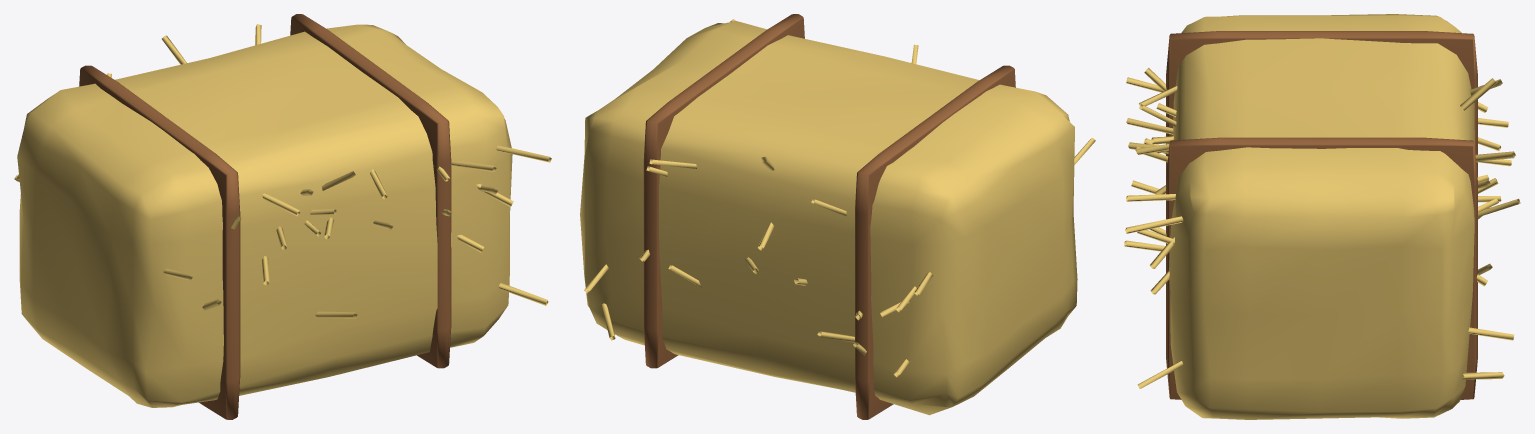
Rendered from HayBale.obj.
The picture shows the model from 3 angles, left to right: view 1: azimuth 30°, elevation 25°; view 2: azimuth 150°, elevation 25°; view 3: azimuth 270°, elevation 25°; orthographic projection. The views are drawn at different scales.
Visible parts, largest first — view 1: Straw, Twine; view 2: Straw, Twine; view 3: Straw, Twine.
Boxes of the visible parts, x1=… form: Straw: x1=14, y1=24, x2=551, y2=407; Twine: x1=79, y1=14, x2=451, y2=419; Straw: x1=580, y1=19, x2=1095, y2=415; Twine: x1=643, y1=14, x2=1015, y2=419; Straw: x1=1124, y1=14, x2=1520, y2=419; Twine: x1=1166, y1=31, x2=1477, y2=399.
Bounding box in the file's own units: 4.09 × 2.52 × 3.45.
